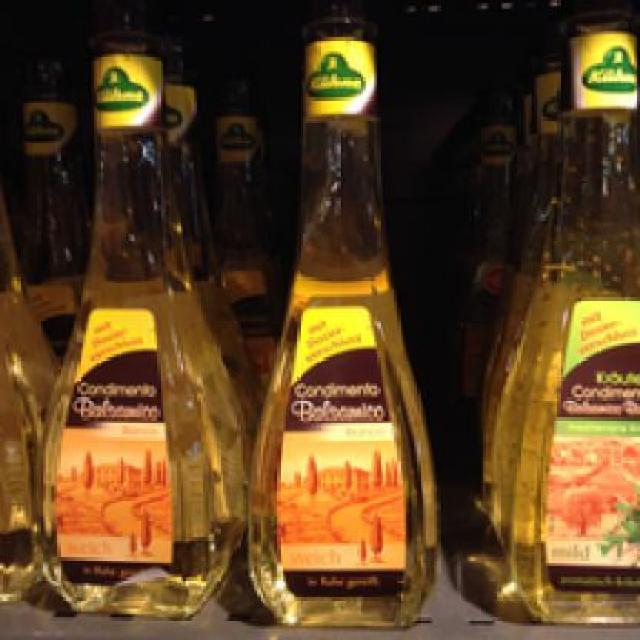Vinegar: (28, 43, 241, 623), (248, 27, 446, 624), (492, 26, 638, 623)
